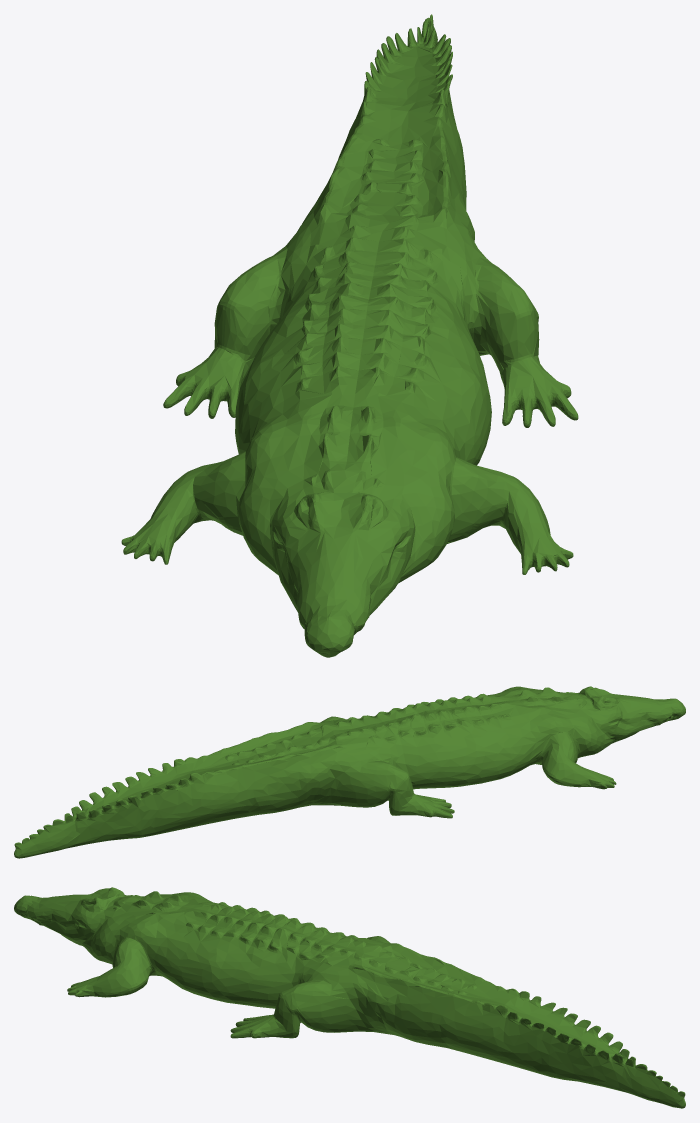
3 views of the same model, one above another, from view 1: azimuth 30°, elevation 25°; view 2: azimuth 150°, elevation 25°; view 3: azimuth 270°, elevation 25° (orthographic). The views are drawn at different scales.
Visible parts, largest first — view 1: Mesh_Mesh_head_geo.001_lambert2SG.001; view 2: Mesh_Mesh_head_geo.001_lambert2SG.001; view 3: Mesh_Mesh_head_geo.001_lambert2SG.001.
Part boxes in pixels (x1,y1,x2,y2): Mesh_Mesh_head_geo.001_lambert2SG.001: (121, 14, 578, 657); Mesh_Mesh_head_geo.001_lambert2SG.001: (14, 686, 685, 858); Mesh_Mesh_head_geo.001_lambert2SG.001: (14, 887, 685, 1108).
Size of the model in its own units: 0.09 by 0.0155 by 0.1281.
